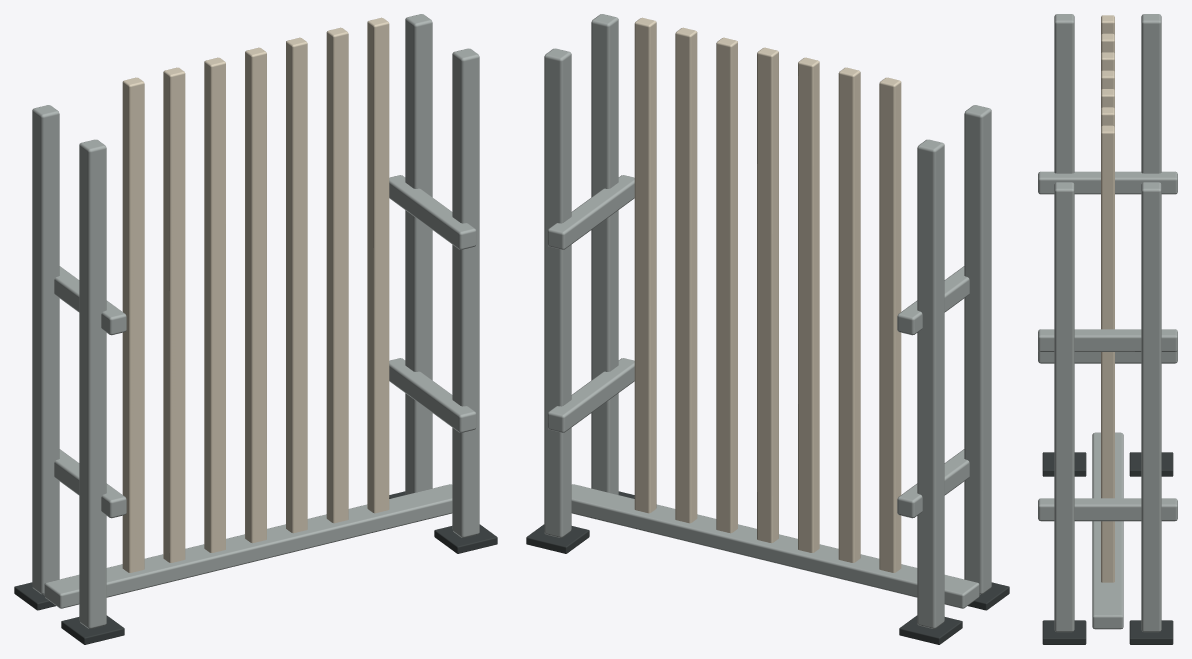
Rendered from museum-conservation-and-art-restoration-museum-conserv-94b0c868.glb.
3 views of the same model, side by side, from view 1: azimuth 30°, elevation 25°; view 2: azimuth 150°, elevation 25°; view 3: azimuth 270°, elevation 25° (orthographic). The views are drawn at different scales.
Visible parts, largest first — view 1: museum-conservation-and-art-restoration-canvas-support-strip (×3); view 2: museum-conservation-and-art-restoration-canvas-support-strip (×3); view 3: museum-conservation-and-art-restoration-canvas-support-strip (×3).
Boxes of the visible parts, x1,y1,x2,y2 form: museum-conservation-and-art-restoration-canvas-support-strip (×3): (14,14,497,644); museum-conservation-and-art-restoration-canvas-support-strip (×3): (526,14,1009,644); museum-conservation-and-art-restoration-canvas-support-strip (×3): (1038,14,1177,644).
Bounding box in the file's own units: 1.42 × 1.7 × 0.45.
